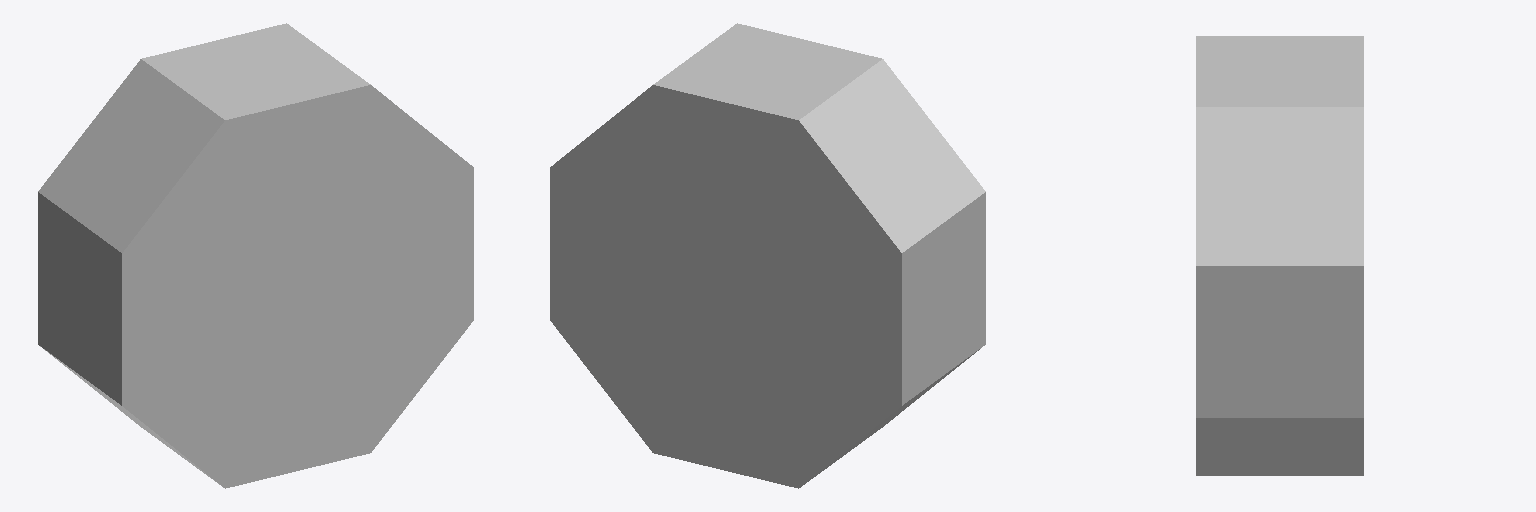
File: OctagonalPrism.obj
3 renders of one model, left to right at view 1: azimuth 30°, elevation 25°; view 2: azimuth 150°, elevation 25°; view 3: azimuth 270°, elevation 25°, orthographic.
Visible parts, largest first — view 1: OctagonalPrism; view 2: OctagonalPrism; view 3: OctagonalPrism.
Part boxes in pixels (x1,y1,x2,y2): OctagonalPrism: (38,23,473,488); OctagonalPrism: (550,23,985,488); OctagonalPrism: (1196,36,1363,475).
Size of the model in its own units: 1.81 by 1.81 by 0.7502.